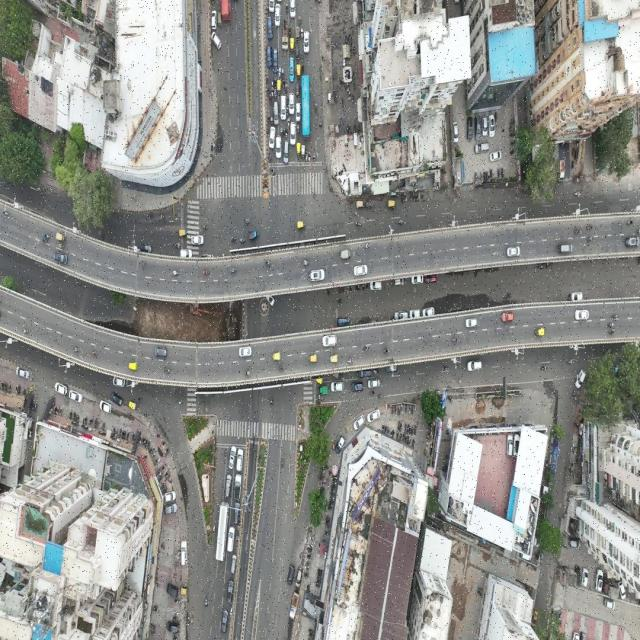3W: (127, 360, 139, 372), (340, 248, 352, 260), (296, 218, 306, 232), (55, 231, 67, 242), (271, 350, 282, 362), (248, 230, 260, 241), (534, 327, 546, 338), (318, 385, 329, 396), (308, 353, 318, 364), (180, 585, 189, 597), (178, 228, 188, 238), (329, 353, 338, 363), (387, 198, 396, 208), (366, 200, 374, 211), (217, 11, 222, 28), (289, 38, 295, 52), (355, 200, 364, 209), (296, 64, 301, 79), (302, 144, 306, 161), (277, 80, 281, 96), (297, 142, 301, 158), (296, 46, 300, 62), (296, 82, 300, 98)
Bus: (215, 502, 230, 561), (302, 74, 313, 142)
Cars: (233, 474, 243, 500), (153, 344, 169, 360), (352, 263, 369, 278), (465, 359, 484, 372), (574, 370, 586, 390), (573, 308, 590, 322), (465, 116, 474, 142), (226, 579, 235, 604), (310, 269, 326, 283), (322, 334, 338, 348), (463, 316, 479, 330), (506, 244, 522, 258), (474, 142, 490, 156), (334, 436, 346, 454), (166, 620, 179, 636), (180, 540, 188, 566), (224, 473, 232, 499), (352, 415, 365, 431), (367, 408, 380, 424), (568, 289, 584, 302), (624, 235, 640, 248), (474, 114, 482, 140), (210, 32, 221, 50), (54, 252, 68, 266), (424, 272, 438, 286), (558, 242, 573, 255), (236, 448, 244, 472), (287, 563, 295, 587), (228, 446, 236, 469), (330, 381, 344, 394), (500, 311, 514, 324), (337, 314, 350, 328), (453, 120, 460, 146), (238, 346, 253, 358), (221, 609, 228, 634), (482, 114, 489, 139), (191, 234, 204, 247), (410, 273, 424, 285), (233, 501, 240, 524), (266, 17, 273, 40), (303, 31, 310, 54), (392, 310, 408, 320), (140, 241, 152, 254), (351, 382, 364, 394), (385, 364, 398, 376), (370, 280, 383, 292), (422, 306, 435, 318), (489, 113, 495, 139), (283, 140, 289, 166), (164, 504, 178, 515), (276, 135, 282, 160), (231, 554, 238, 575), (269, 126, 275, 150), (272, 48, 278, 72), (288, 58, 294, 82), (164, 491, 177, 502), (490, 152, 503, 163), (210, 10, 217, 30), (273, 102, 279, 125), (290, 123, 296, 146), (289, 93, 295, 116), (266, 45, 272, 68), (275, 5, 281, 28), (296, 100, 302, 122), (392, 277, 405, 287), (368, 379, 380, 389), (409, 308, 421, 318), (290, 0, 296, 20), (296, 568, 302, 587), (179, 250, 193, 258), (357, 370, 371, 378)
LCV: (288, 591, 300, 620), (166, 583, 178, 599), (280, 96, 287, 120)
M2W: (158, 212, 167, 225), (230, 265, 238, 277), (2, 208, 11, 218), (22, 326, 30, 337), (243, 217, 252, 226), (243, 369, 251, 379), (362, 242, 370, 252), (572, 191, 582, 199), (280, 456, 286, 469), (265, 257, 272, 268), (90, 349, 98, 358), (163, 367, 172, 375), (202, 268, 210, 277), (302, 258, 310, 267), (450, 335, 458, 344), (173, 268, 180, 278), (269, 394, 274, 408), (278, 365, 286, 373), (346, 357, 354, 365), (362, 344, 370, 352), (441, 365, 449, 373), (355, 221, 363, 229), (566, 358, 574, 366), (335, 298, 344, 305), (607, 329, 616, 336), (611, 314, 620, 321), (204, 596, 209, 608), (202, 222, 208, 232), (542, 364, 548, 374), (58, 243, 66, 250), (72, 346, 80, 353), (574, 227, 581, 235), (586, 236, 594, 243), (626, 219, 634, 226), (371, 368, 380, 374), (606, 322, 615, 328), (285, 3, 289, 16), (326, 288, 331, 298), (44, 232, 51, 239), (382, 348, 390, 354), (587, 224, 593, 232), (314, 102, 318, 114), (270, 167, 275, 176), (175, 242, 181, 249), (231, 235, 237, 242), (240, 238, 246, 245), (377, 394, 384, 400), (369, 390, 376, 396), (398, 218, 404, 225), (223, 450, 227, 460), (268, 153, 272, 163), (42, 239, 48, 245), (236, 532, 240, 541), (348, 215, 353, 221), (313, 152, 316, 162), (308, 152, 311, 162), (319, 121, 323, 128), (348, 204, 352, 210), (354, 211, 358, 216)
